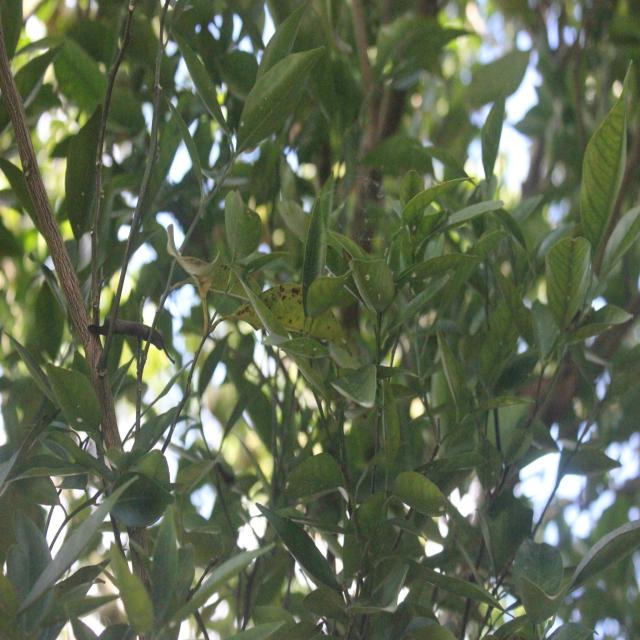melanose: (214, 280, 364, 348)
